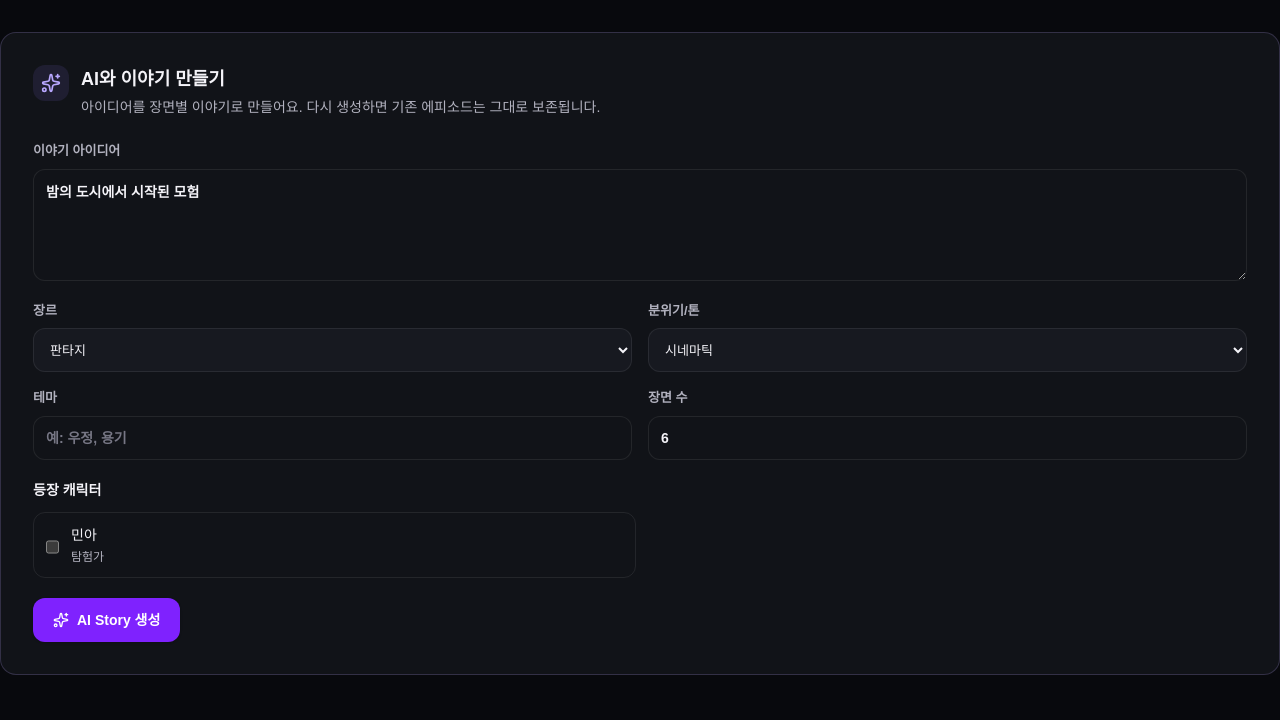
Test case: StoryStudio › submits the form, selected project Character IDs and a UUID key, then shows queued state
Step 1. Replace the text in the text box labelled "이야기 아이디어" with "달빛 도시의 비밀" → coordinates (640, 224), box top-left (33, 168), bottom-right (1247, 280)
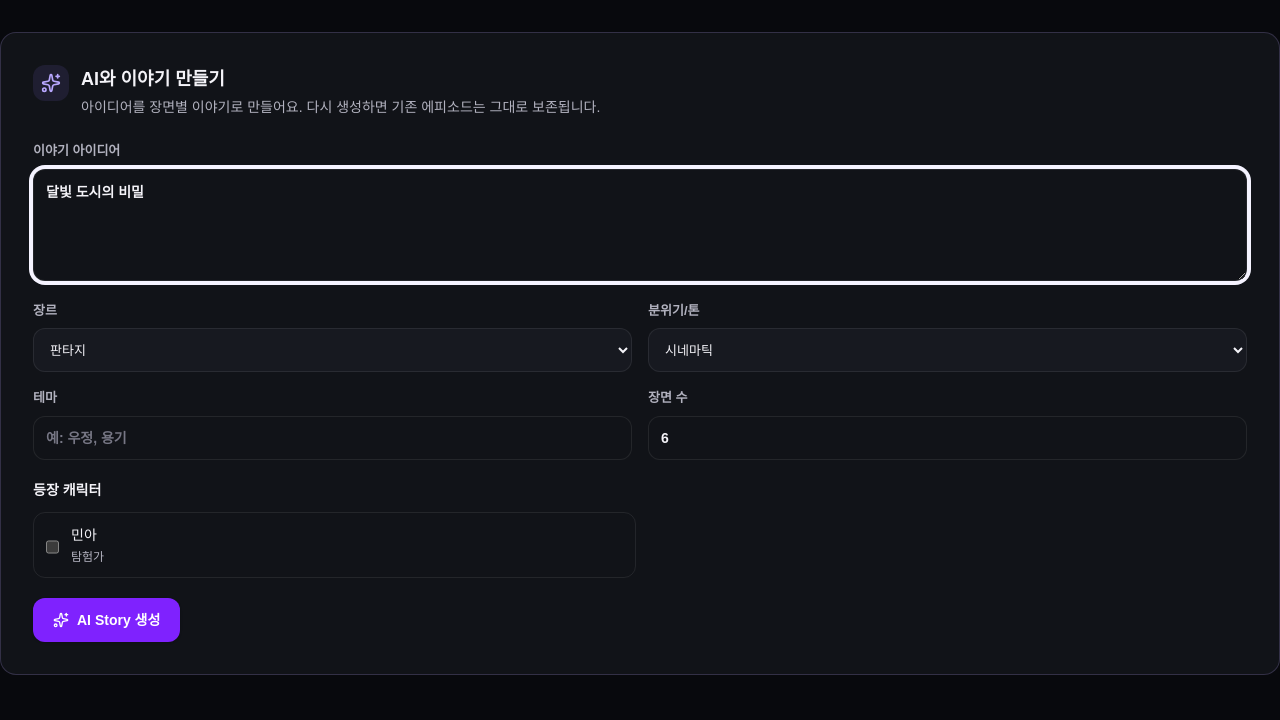
Step 2. Select "희망적" in the dropdown labelled "분위기/톤" → coordinates (948, 350), box top-left (648, 328), bottom-right (1247, 372)
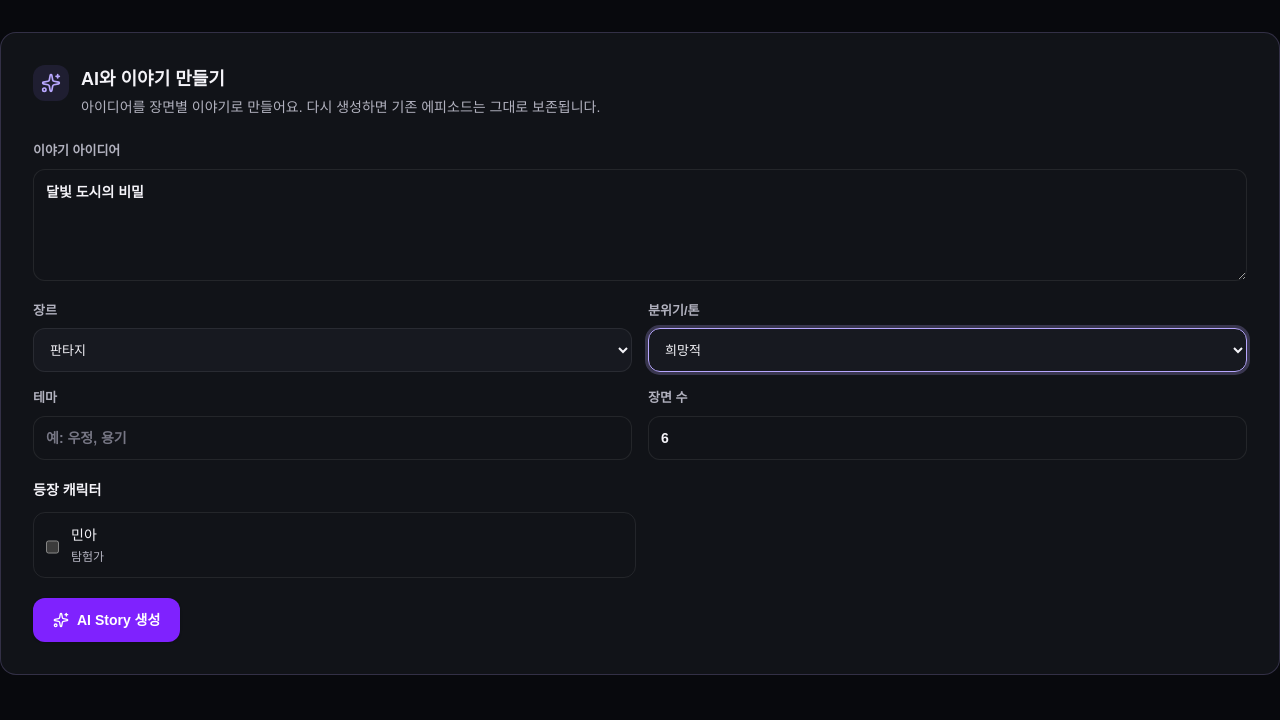
Step 3. Type "우정" into the field labelled "테마" → coordinates (332, 438), box top-left (33, 416), bottom-right (632, 460)
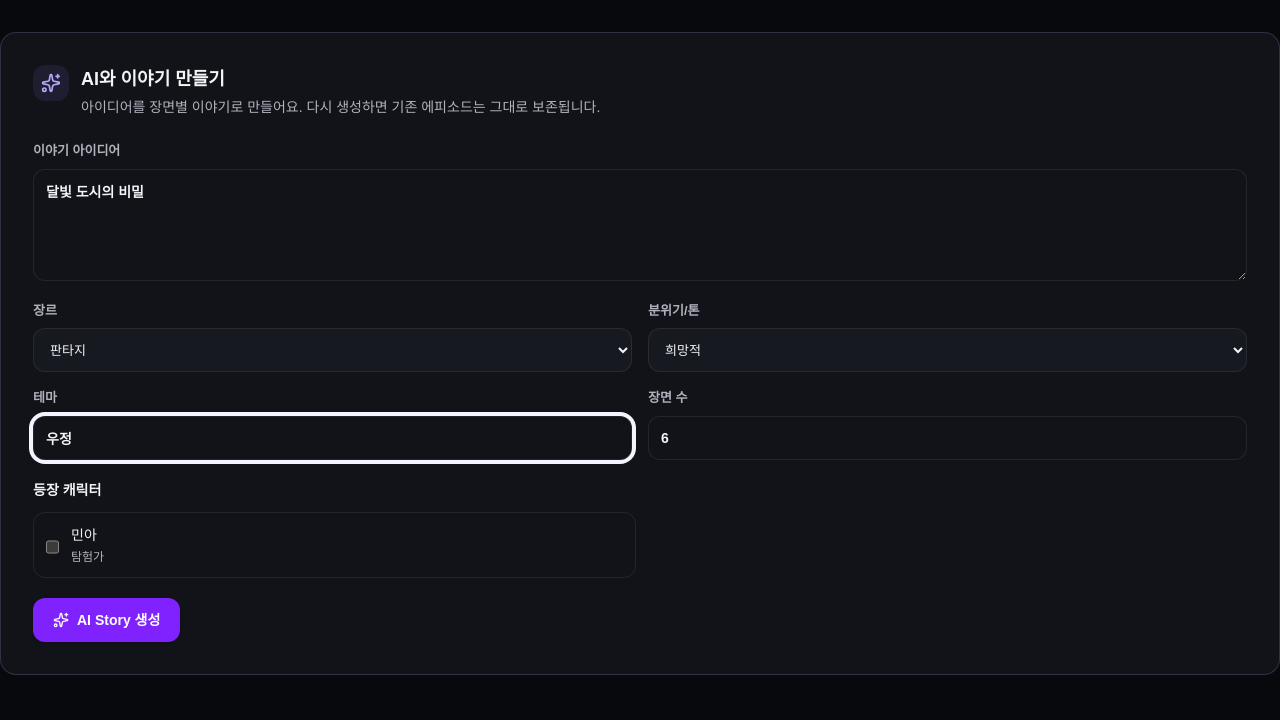
Step 4. Replace the text in the number field labelled "장면 수" with "1" → coordinates (948, 438), box top-left (648, 416), bottom-right (1247, 460)
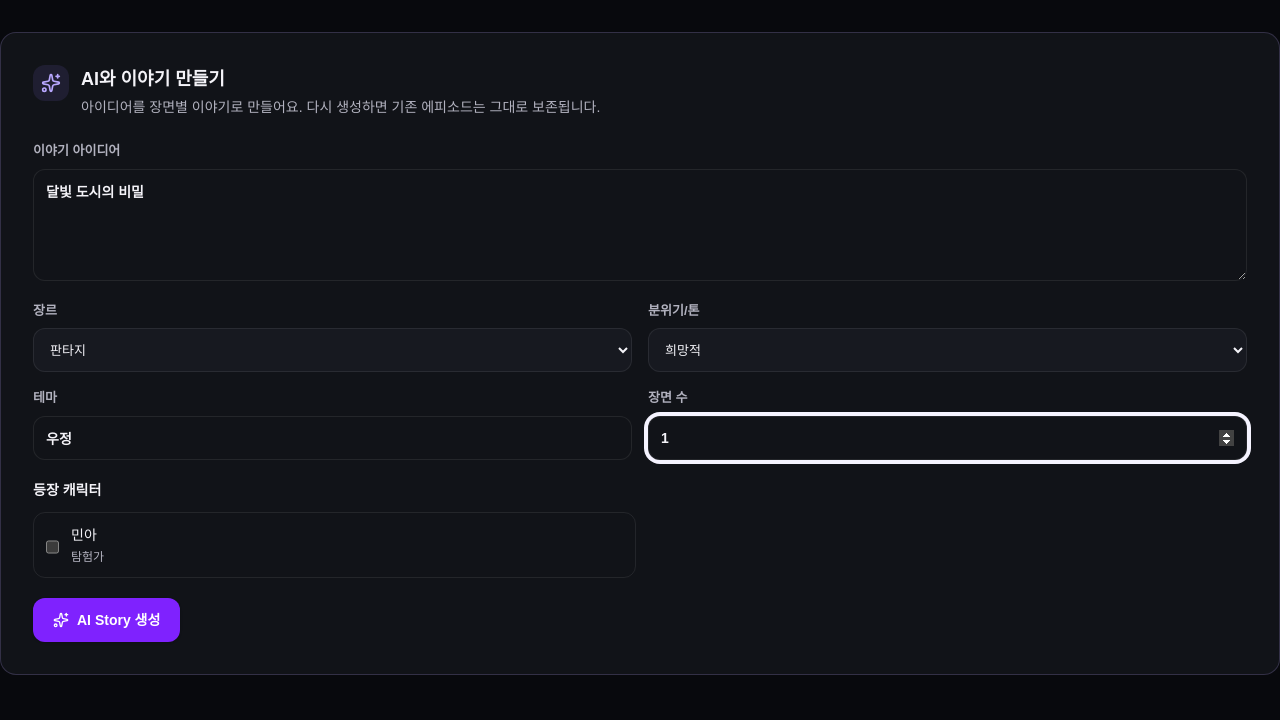
Step 5. Click the checkbox labelled "민아 탐험가" → coordinates (52, 546), box top-left (46, 528), bottom-right (59, 564)
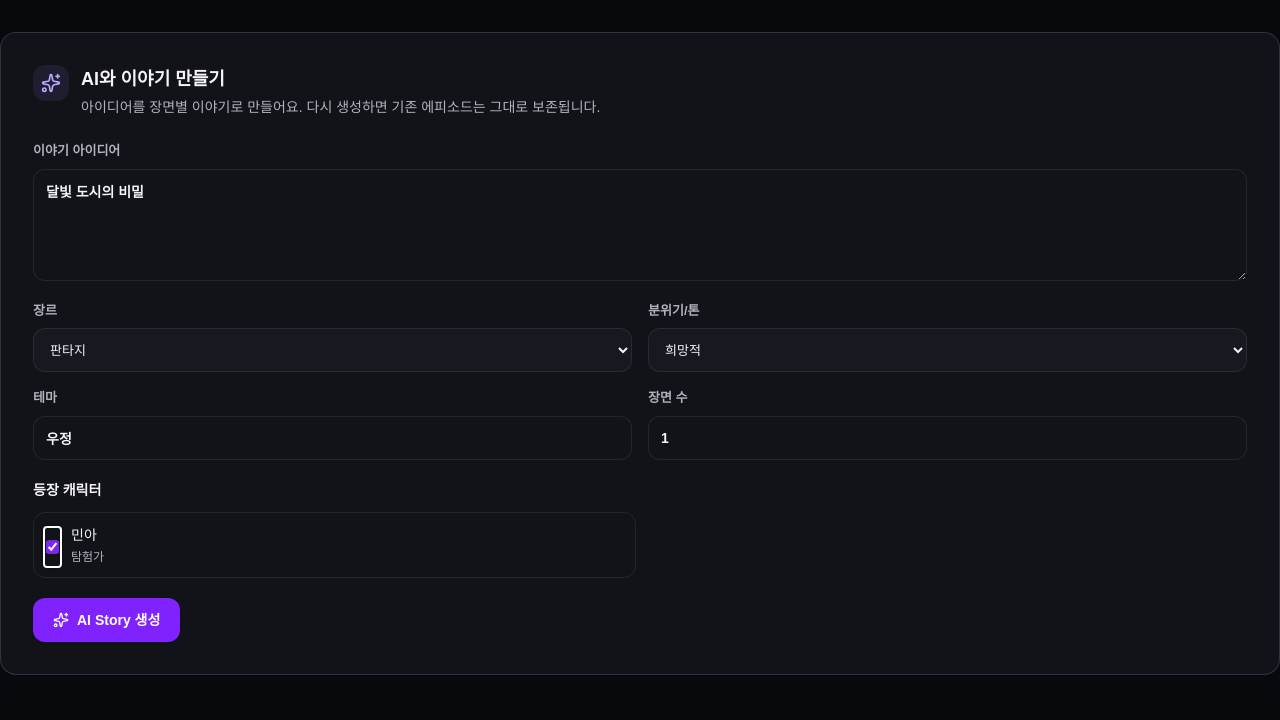
Step 6. Click the button "AI Story 생성" → coordinates (107, 620), box top-left (33, 598), bottom-right (180, 642)
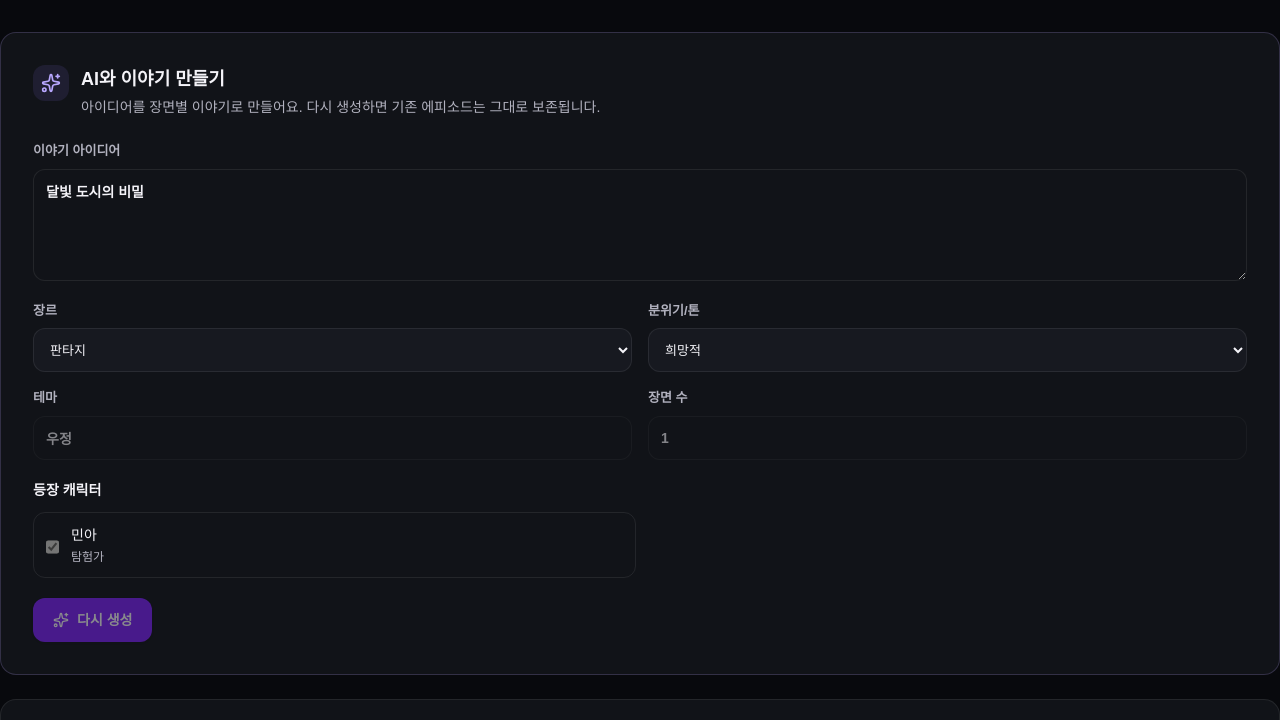
Expected: the button "다시 생성" is disabled, top-left (33, 598), bottom-right (152, 642)
